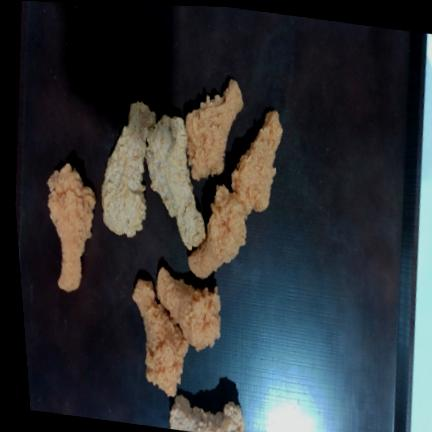chicken: (146, 115, 205, 249), (102, 102, 156, 237), (133, 279, 188, 395), (48, 164, 96, 292), (186, 80, 243, 180), (157, 267, 221, 351), (232, 110, 283, 215), (189, 186, 246, 278)
